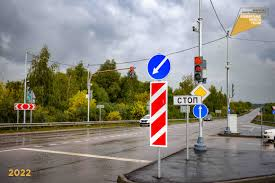tl: (191, 55, 205, 81)
